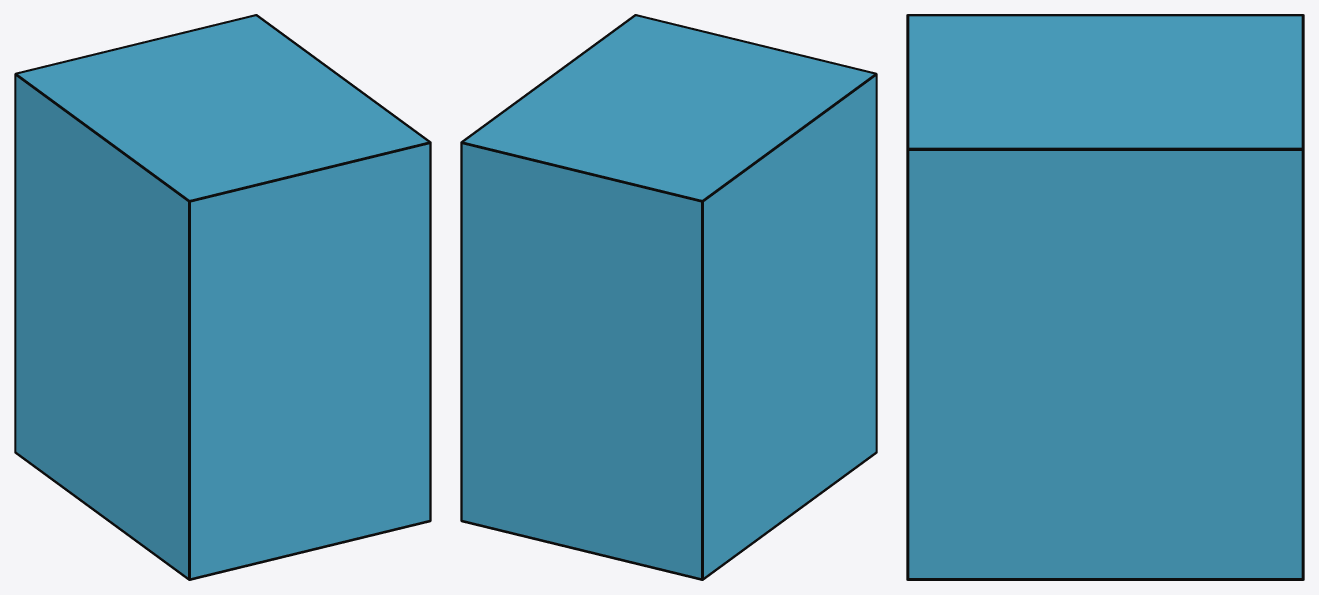
Rendered from asset.gltf.
3 views of the same model, side by side, from view 1: azimuth 30°, elevation 25°; view 2: azimuth 150°, elevation 25°; view 3: azimuth 270°, elevation 25° (orthographic). The views are drawn at different scales.
Visible parts, largest first — view 1: im_0d5280ff, im_edge_cylinder (×9); view 2: im_0d5280ff, im_edge_cylinder (×9); view 3: im_0d5280ff, im_edge_cylinder (×7).
Boxes of the visible parts, x1=… form: im_0d5280ff: x1=16, y1=16, x2=429, y2=577; im_edge_cylinder (×9): x1=14, y1=14, x2=431, y2=580; im_0d5280ff: x1=462, y1=16, x2=875, y2=577; im_edge_cylinder (×9): x1=460, y1=14, x2=877, y2=580; im_0d5280ff: x1=909, y1=16, x2=1301, y2=577; im_edge_cylinder (×7): x1=906, y1=14, x2=1304, y2=580.
Size of the model in its own units: 1.01 by 1.51 by 1.26.
